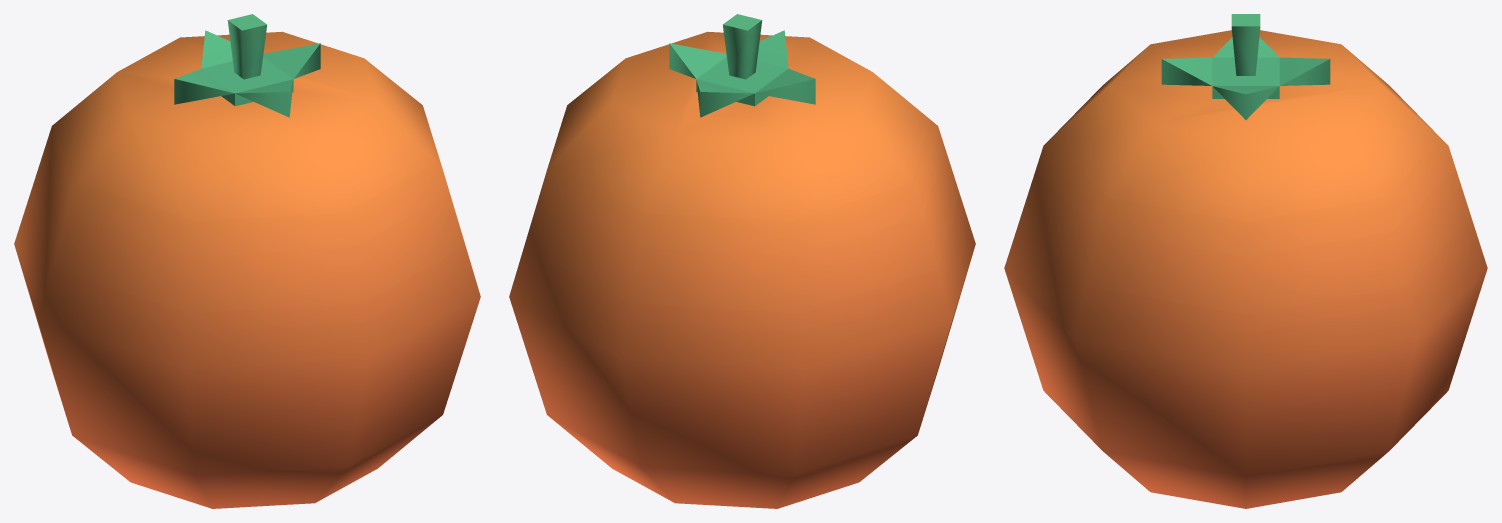
Rendered from orange.glb.
3 views of the same model, side by side, from view 1: azimuth 30°, elevation 25°; view 2: azimuth 150°, elevation 25°; view 3: azimuth 270°, elevation 25° (orthographic).
Parts seen in each view (by area): view 1: orange; view 2: orange; view 3: orange.
Boxes of the visible parts, left/top/right/bottom form: orange: left=14, top=14, right=480, bottom=508; orange: left=509, top=14, right=975, bottom=508; orange: left=1004, top=14, right=1487, bottom=508.
Size of the model in its own units: 0.1697 by 0.1672 by 0.1697.
1 material, 1 textured.
